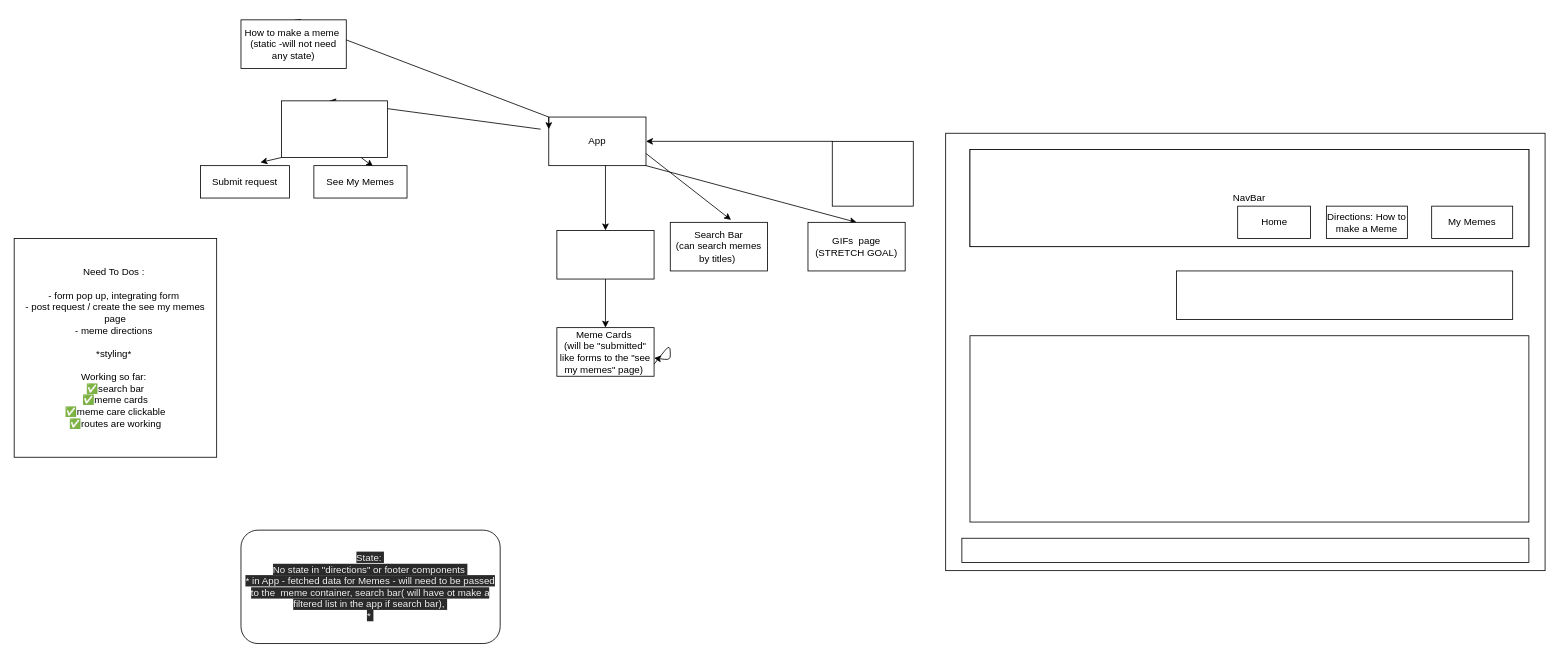
Image size: 1559x658. Some labels were removed from this diagram. The shapes that lost their labels are listed below. From the top down, each one's centre as x and y in pixels, then its label:
pixel 334 129: NavBar links to "my memes", search GIFS, and "how to make a meme"
pixel 872 173: Footer (for aesthetic - will not need state)
pixel 605 254: Meme Container ✅
pixel 1344 295: search for a meme (ex Condescending Wonka )
pixel 1249 428: Meme Container (Click a meme and add some text!)
pixel 1245 550: Footer - Made by Kim & Nicole February 2022
